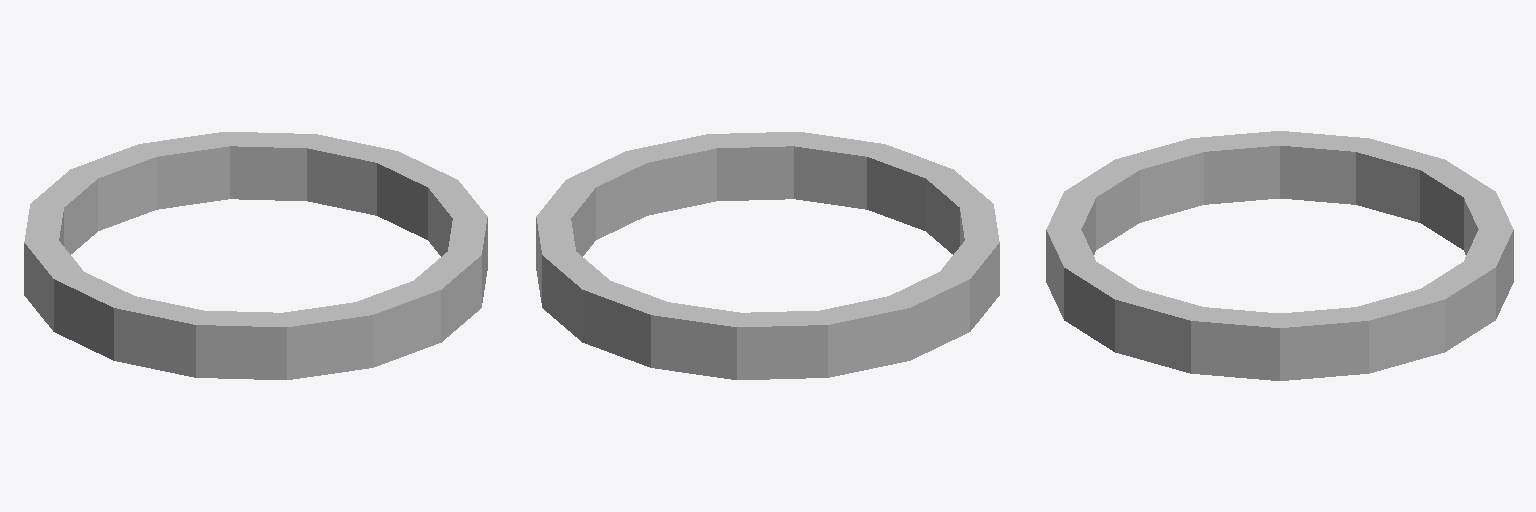
The model's file is ToyHangingThing.obj.
3 views of the same model, side by side, from view 1: azimuth 30°, elevation 25°; view 2: azimuth 150°, elevation 25°; view 3: azimuth 270°, elevation 25° (orthographic).
Parts seen in each view (by area): view 1: ToyHangingThing; view 2: ToyHangingThing; view 3: ToyHangingThing.
Boxes of the visible parts, x1=… form: ToyHangingThing: x1=24, y1=132, x2=487, y2=379; ToyHangingThing: x1=536, y1=132, x2=999, y2=379; ToyHangingThing: x1=1046, y1=131, x2=1513, y2=380.
Bounding box in the file's own units: 0.64 × 0.08 × 0.64.